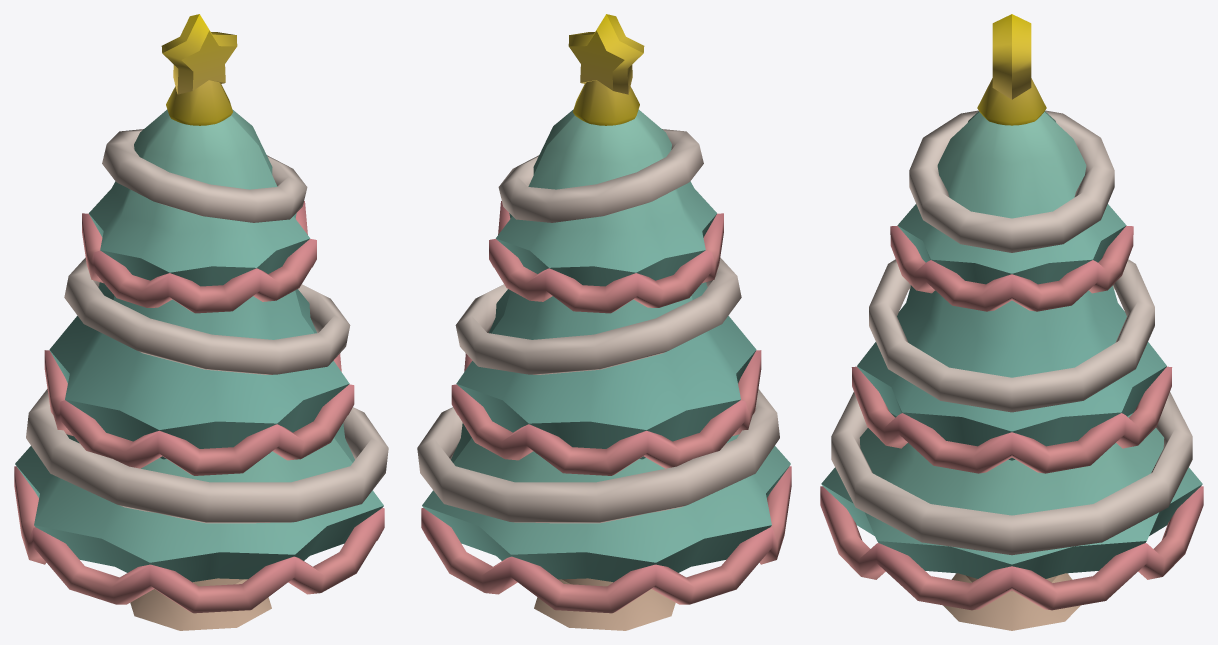
Rendered from tree-christmas-decorated-b.glb.
The picture shows the model from 3 angles, left to right: view 1: azimuth 30°, elevation 25°; view 2: azimuth 150°, elevation 25°; view 3: azimuth 270°, elevation 25°; orthographic projection.
Visible parts, largest first — view 1: tree-christmas-decorated-b; view 2: tree-christmas-decorated-b; view 3: tree-christmas-decorated-b.
Part boxes in pixels (left/top/right/bottom): tree-christmas-decorated-b: left=14, top=14, right=388, bottom=630; tree-christmas-decorated-b: left=417, top=14, right=791, bottom=630; tree-christmas-decorated-b: left=820, top=14, right=1203, bottom=630.
Bounding box in the file's own units: 1.28 × 2.15 × 1.28.
